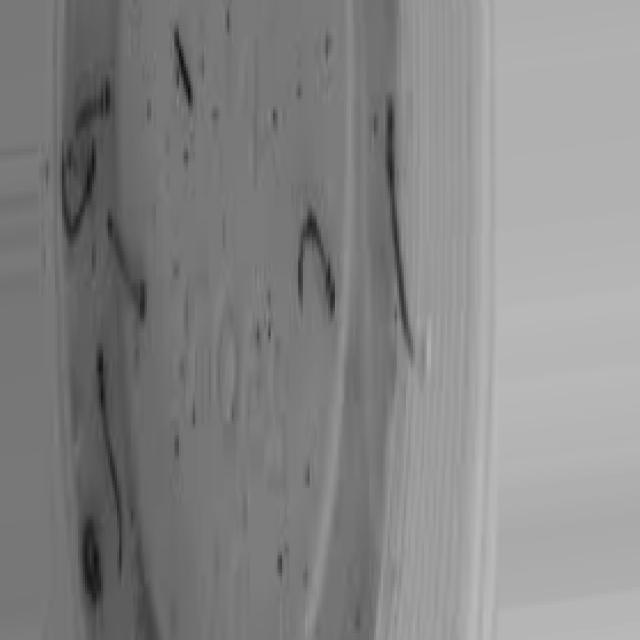larvas: (382, 94, 413, 352), (98, 345, 127, 579), (297, 209, 336, 319), (105, 216, 147, 316), (59, 139, 97, 241), (68, 72, 116, 145), (79, 522, 102, 602), (172, 29, 192, 102)
